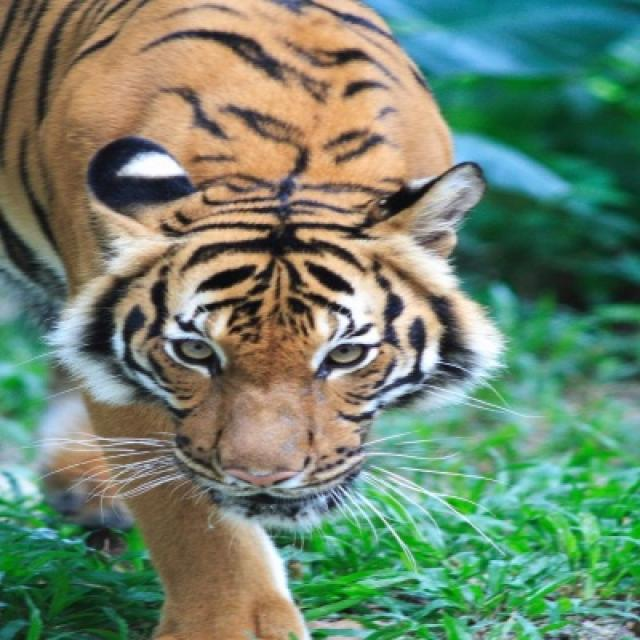Tiger: (0, 7, 492, 629)
